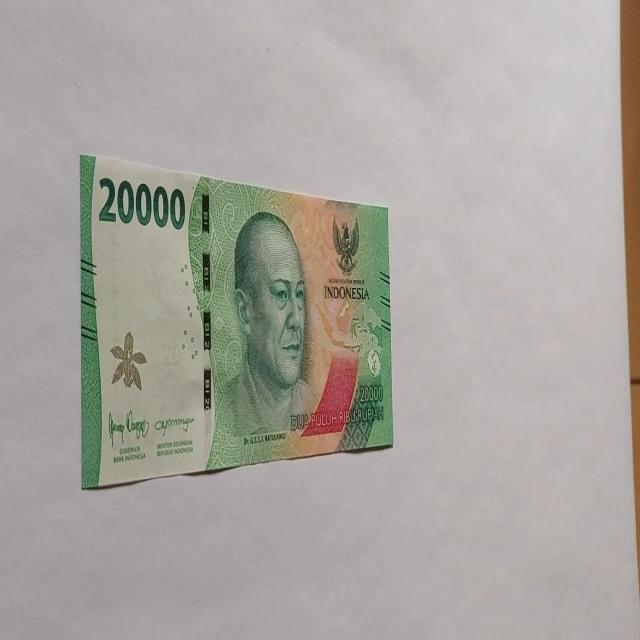dua puluh ribu rupiah: (79, 151, 394, 490)
